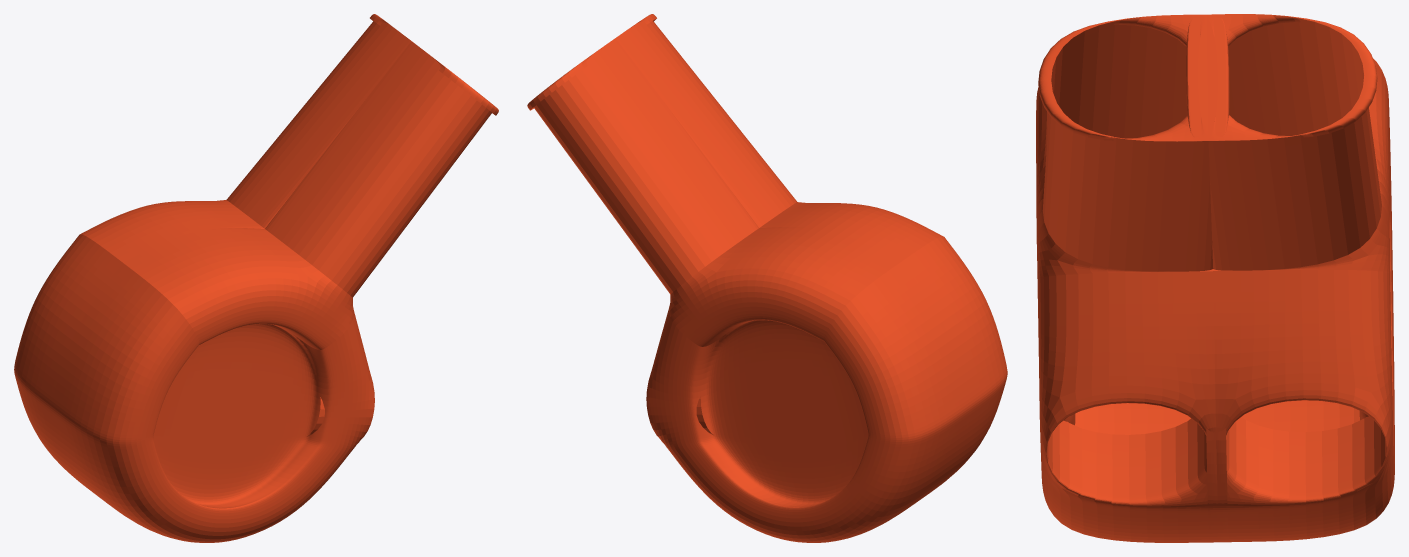
File: whistle (1).fbx
3 renders of one model, left to right at view 1: azimuth 30°, elevation 25°; view 2: azimuth 150°, elevation 25°; view 3: azimuth 270°, elevation 25°, orthographic. The views are drawn at different scales.
Parts seen in each view (by area): view 1: Cylinder; view 2: Cylinder; view 3: Cylinder.
Part boxes in pixels (bbox=[...]): Cylinder: bbox=[14, 14, 498, 542]; Cylinder: bbox=[527, 14, 1007, 542]; Cylinder: bbox=[1036, 14, 1394, 542].
Bounding box in the file's own units: 289 × 286 × 138.
